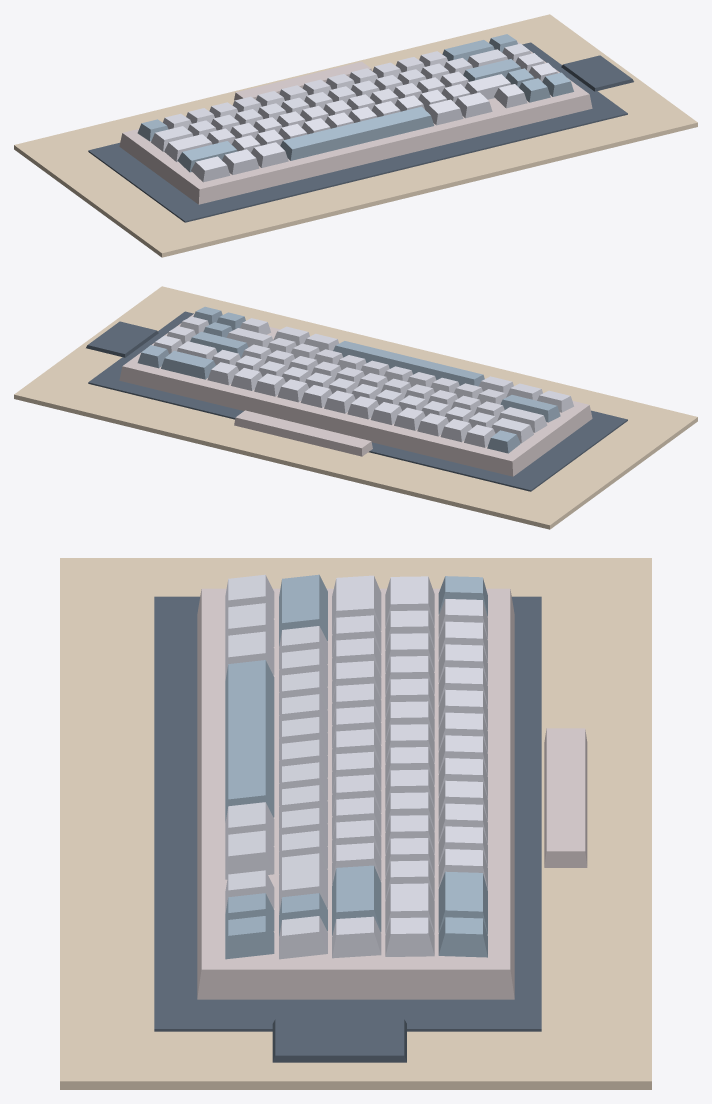
Rendered from keyboard_65_4efd856c.glb.
The picture shows the model from 3 angles, top to bottom: view 1: azimuth 30°, elevation 25°; view 2: azimuth 150°, elevation 25°; view 3: azimuth 270°, elevation 25°; orthographic projection. The views are drawn at different scales.
Visible parts, largest first — view 1: desk, keyboard case, deskmat, key 62, mouse pad side, monitor stand, key 45, key 43, key 59, key 60, key 56, key 61 (+10 smaller); view 2: desk, keyboard case, deskmat, monitor stand, key 62, mouse pad side, key 14, key 45, key 43, key 31, key 16, key 56 (+20 smaller); view 3: desk, keyboard case, deskmat, key 62, monitor stand, mouse pad side, key 43, key 45, key 14, key 31, key 56, key 64 (+60 smaller).
Part boxes in pixels (x1,y1,x2,y2): desk: [14, 14, 697, 257]; keyboard case: [119, 41, 592, 204]; deskmat: [88, 42, 627, 222]; key 62: [280, 106, 434, 160]; mouse pad side: [561, 55, 633, 91]; monitor stand: [234, 61, 371, 100]; key 45: [177, 141, 237, 172]; key 43: [463, 59, 520, 81]; key 59: [191, 156, 230, 182]; key 60: [222, 149, 259, 174]; key 56: [465, 74, 511, 99]; key 61: [251, 142, 288, 167]; desk: [14, 286, 697, 529]; keyboard case: [119, 313, 592, 476]; deskmat: [88, 311, 627, 491]; monitor stand: [234, 410, 372, 456]; key 62: [333, 341, 484, 386]; mouse pad side: [86, 321, 158, 357]; key 14: [161, 350, 215, 379]; key 45: [500, 395, 560, 422]; key 43: [190, 331, 248, 357]; key 31: [497, 407, 547, 432]; key 16: [491, 418, 533, 443]; key 56: [226, 328, 273, 347]; desk: [60, 558, 651, 1089]; keyboard case: [197, 588, 514, 999]; deskmat: [154, 596, 541, 1031]; key 62: [225, 660, 274, 822]; monitor stand: [544, 728, 587, 867]; mouse pad side: [272, 1019, 406, 1062]; key 43: [332, 865, 381, 935]; key 45: [279, 574, 327, 646]; key 14: [438, 871, 487, 934]; key 31: [332, 575, 381, 633]; key 56: [279, 853, 327, 913]; key 64: [225, 830, 274, 879].
Size of the model in its own units: 23 by 1.54 by 11.
